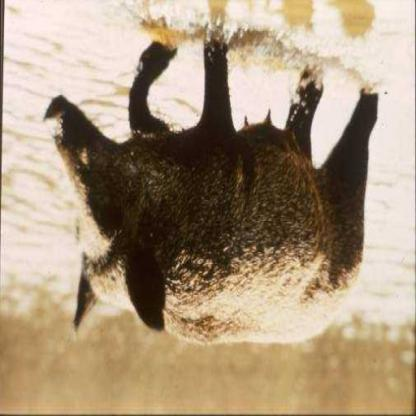boar: (35, 40, 415, 378)
